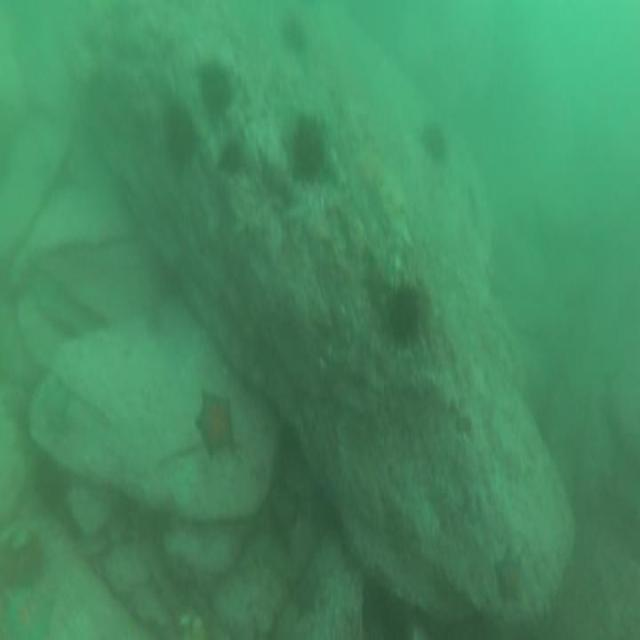echinus: (382, 274, 428, 358), (290, 108, 332, 188), (161, 98, 202, 179), (191, 55, 235, 124), (418, 114, 449, 167), (280, 9, 311, 58), (219, 134, 248, 182)
starfish: (194, 386, 237, 466), (288, 561, 321, 627), (0, 525, 27, 605), (494, 539, 526, 604)
